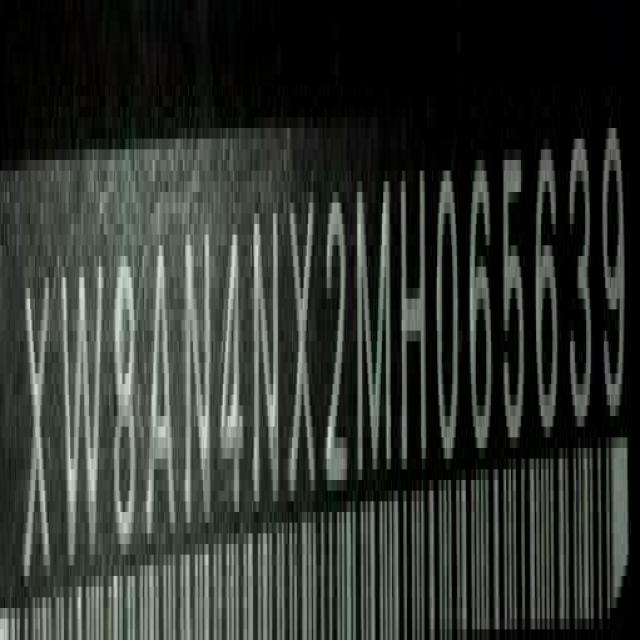0: (436, 158, 458, 462)
2: (322, 190, 352, 498)
3: (567, 134, 594, 446)
4: (220, 214, 248, 546)
5: (499, 138, 525, 462)
6: (468, 162, 494, 462), (533, 138, 558, 442)
8: (112, 245, 139, 557)
9: (602, 134, 625, 427)
A: (146, 237, 178, 553)
H: (398, 146, 428, 482)
M: (356, 158, 396, 490)
N: (182, 214, 214, 546), (252, 194, 283, 522)
W: (59, 253, 106, 565)
X: (286, 186, 320, 510), (22, 276, 52, 580)
